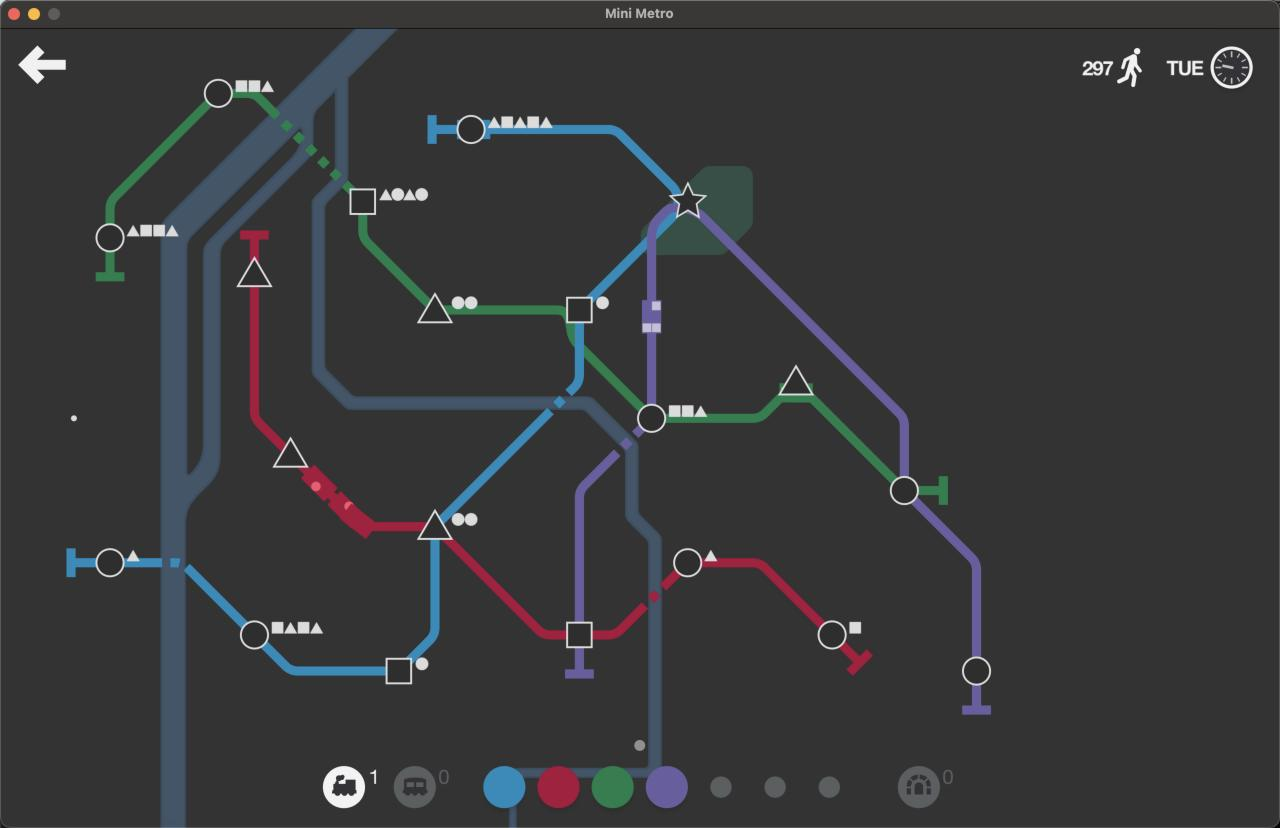CIRCLE: (636, 402, 667, 434), (203, 78, 234, 109), (95, 222, 126, 253), (817, 619, 847, 650), (239, 619, 269, 650), (961, 655, 991, 686), (889, 475, 919, 506), (673, 547, 703, 578), (95, 547, 125, 577), (456, 114, 486, 144)
SQUARE: (384, 656, 413, 685), (348, 187, 377, 216), (565, 620, 594, 648), (566, 296, 593, 324)
STAR: (667, 181, 708, 219)
TRIANGLE: (416, 508, 455, 542), (235, 255, 274, 289), (415, 291, 453, 325), (777, 363, 814, 397), (272, 437, 308, 469)
